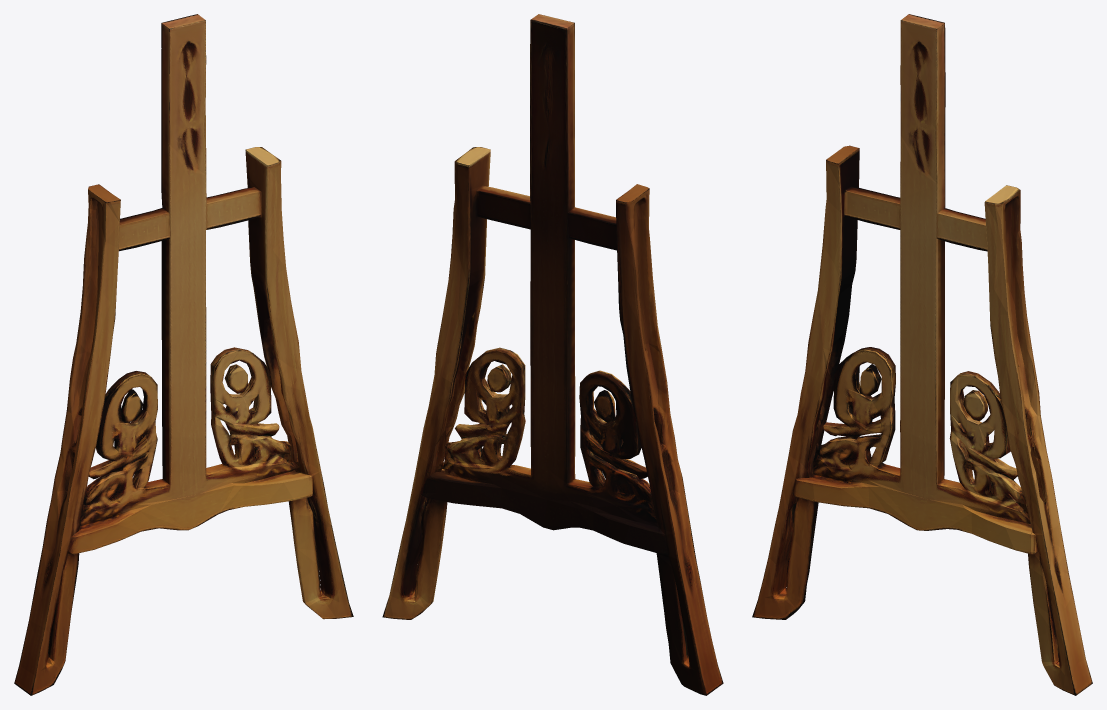
Rendered from wooden-easel-art-deco.jpeg.glb.
3 views of the same model, side by side, from view 1: azimuth 30°, elevation 25°; view 2: azimuth 150°, elevation 25°; view 3: azimuth 330°, elevation 25° (orthographic).
Parts seen in each view (by area): view 1: world; view 2: world; view 3: world.
Part boxes in pixels (x1=…): world: x1=14, y1=14, x2=353, y2=695; world: x1=382, y1=14, x2=723, y2=695; world: x1=752, y1=14, x2=1092, y2=695.
Bounding box in the file's own units: 0.5386 × 1 × 0.0637.
1 material, 1 textured.
